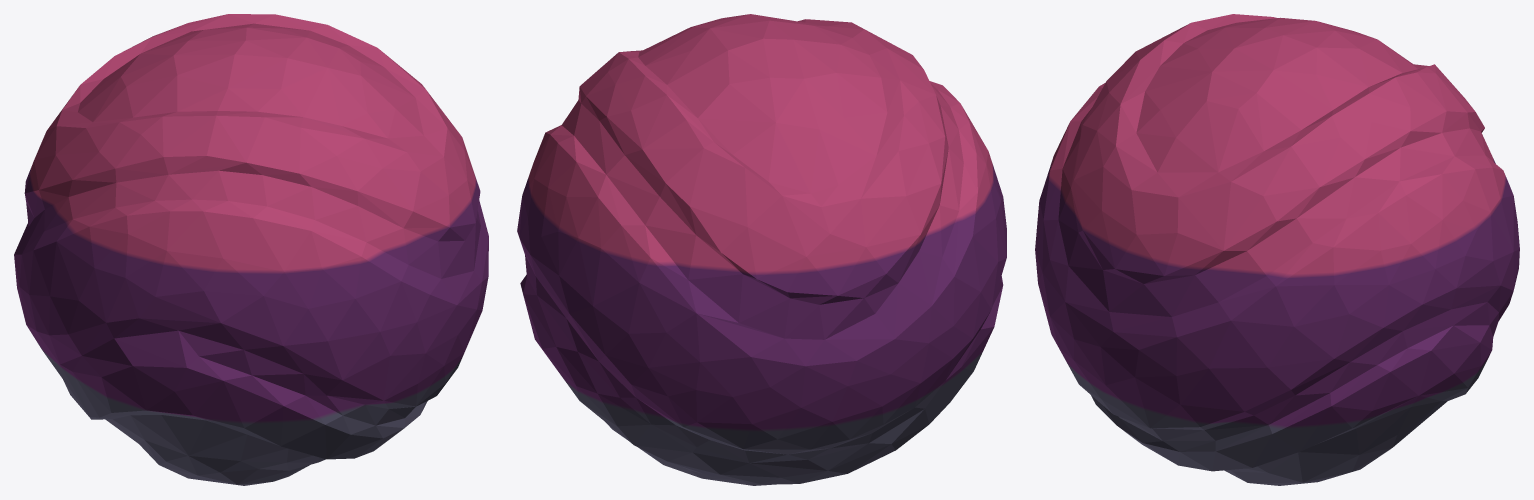
Rendered from SM_PlanetI.fbx.
3 renders of one model, left to right at view 1: azimuth 30°, elevation 25°; view 2: azimuth 150°, elevation 25°; view 3: azimuth 270°, elevation 25°, orthographic. The views are drawn at different scales.
Parts seen in each view (by area): view 1: PlanetI; view 2: PlanetI; view 3: PlanetI.
Part boxes in pixels (x1,y1,x2,y2): PlanetI: (14,14,488,485); PlanetI: (517,14,1006,485); PlanetI: (1035,14,1519,485).
Bounding box in the file's own units: 2.08 × 2.04 × 2.08.
1 material, 1 textured.
